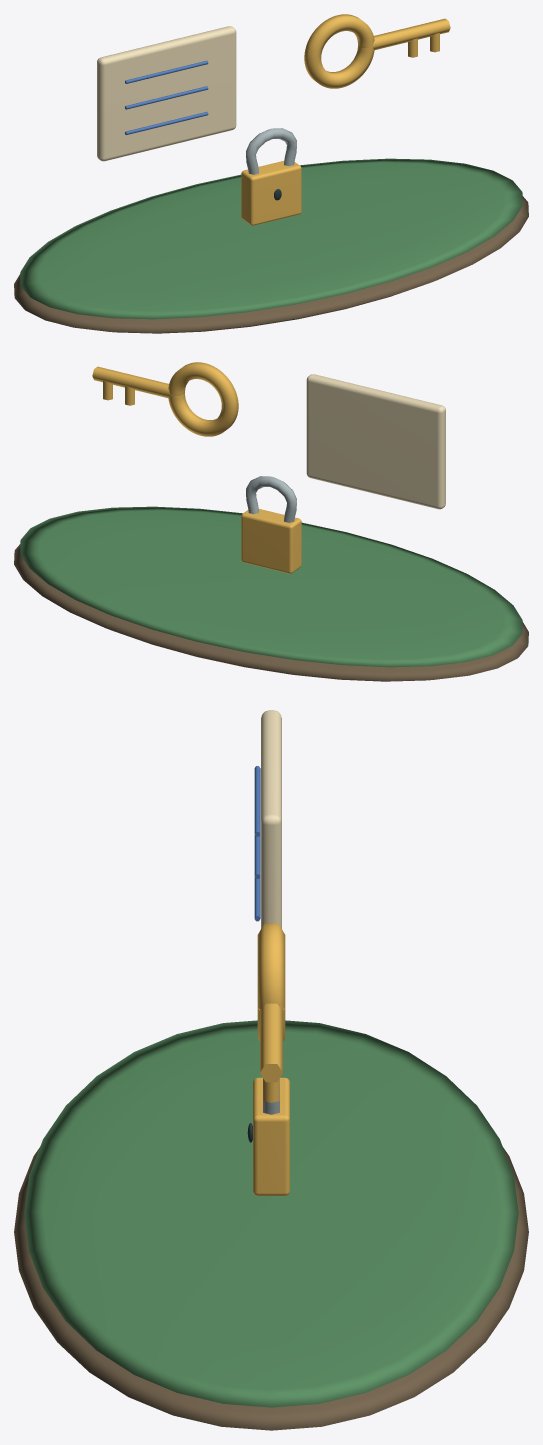
Rendered from complete-first-task-method-tools.glb.
3 renders of one model, top to bottom at view 1: azimuth 30°, elevation 25°; view 2: azimuth 150°, elevation 25°; view 3: azimuth 270°, elevation 25°, orthographic. The views are drawn at different scales.
Visible parts, largest first — view 1: complete-first-task-method-tools_surface_01, complete-first-task-method-tools_surface_02, complete-first-task-method-tools_surface_00, complete-first-task-method-tools_surface_04, complete-first-task-method-tools_surface_03, complete-first-task-method-tools_surface_05; view 2: complete-first-task-method-tools_surface_01, complete-first-task-method-tools_surface_02, complete-first-task-method-tools_surface_00, complete-first-task-method-tools_surface_04, complete-first-task-method-tools_surface_05; view 3: complete-first-task-method-tools_surface_01, complete-first-task-method-tools_surface_00, complete-first-task-method-tools_surface_04, complete-first-task-method-tools_surface_02, complete-first-task-method-tools_surface_03.
Part boxes in pixels (bbox=[...]): complete-first-task-method-tools_surface_01: bbox=[20, 158, 522, 319]; complete-first-task-method-tools_surface_02: bbox=[97, 26, 236, 161]; complete-first-task-method-tools_surface_00: bbox=[14, 196, 528, 333]; complete-first-task-method-tools_surface_04: bbox=[241, 14, 450, 225]; complete-first-task-method-tools_surface_03: bbox=[125, 60, 208, 134]; complete-first-task-method-tools_surface_05: bbox=[246, 128, 296, 174]; complete-first-task-method-tools_surface_01: bbox=[20, 506, 522, 667]; complete-first-task-method-tools_surface_02: bbox=[306, 374, 445, 509]; complete-first-task-method-tools_surface_00: bbox=[14, 544, 528, 681]; complete-first-task-method-tools_surface_04: bbox=[92, 362, 301, 573]; complete-first-task-method-tools_surface_05: bbox=[246, 476, 296, 522]; complete-first-task-method-tools_surface_01: bbox=[24, 1020, 518, 1407]; complete-first-task-method-tools_surface_00: bbox=[14, 1147, 528, 1430]; complete-first-task-method-tools_surface_04: bbox=[253, 923, 289, 1195]; complete-first-task-method-tools_surface_02: bbox=[261, 710, 281, 928]; complete-first-task-method-tools_surface_03: bbox=[254, 766, 260, 921].
Size of the model in its own units: 4.56 by 2.19 by 2.5.
